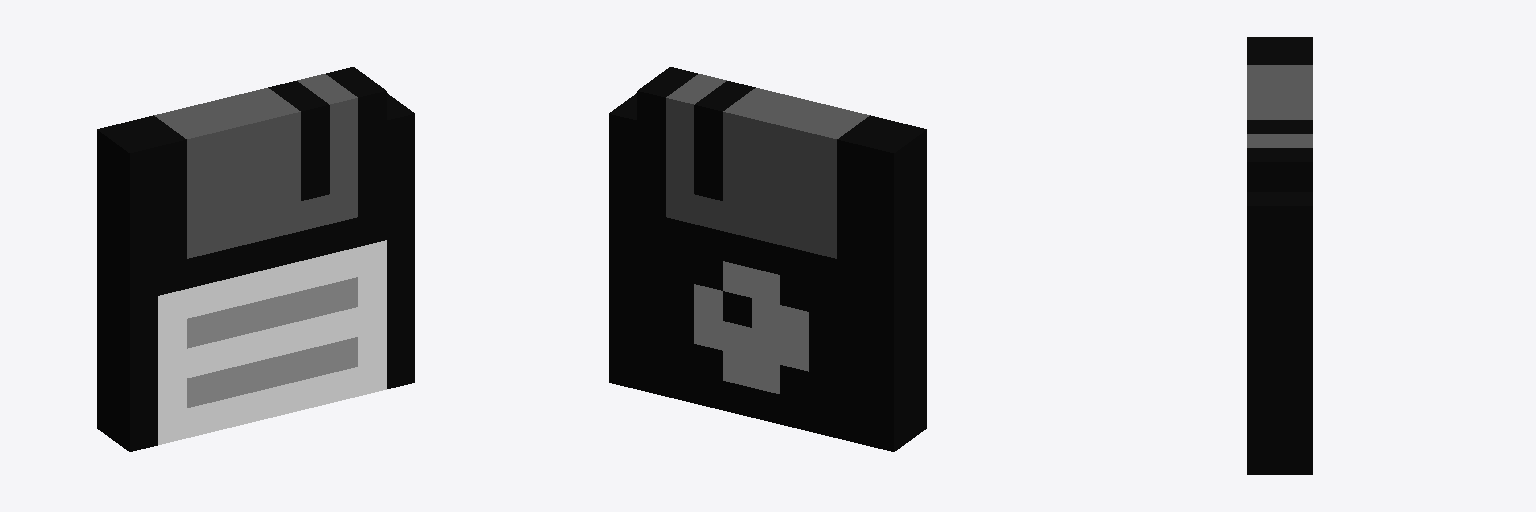
3 renders of one model, left to right at view 1: azimuth 30°, elevation 25°; view 2: azimuth 150°, elevation 25°; view 3: azimuth 270°, elevation 25°, orthographic.
Parts seen in each view (by area): view 1: Matrix; view 2: Matrix; view 3: Matrix.
Boxes of the visible parts, x1,y1,x2,y2 form: Matrix: [97, 67, 414, 451]; Matrix: [609, 67, 926, 451]; Matrix: [1247, 37, 1312, 474].
Bounding box in the file's own units: 0.5 × 0.5 × 0.1.
1 materials, 1 textured.